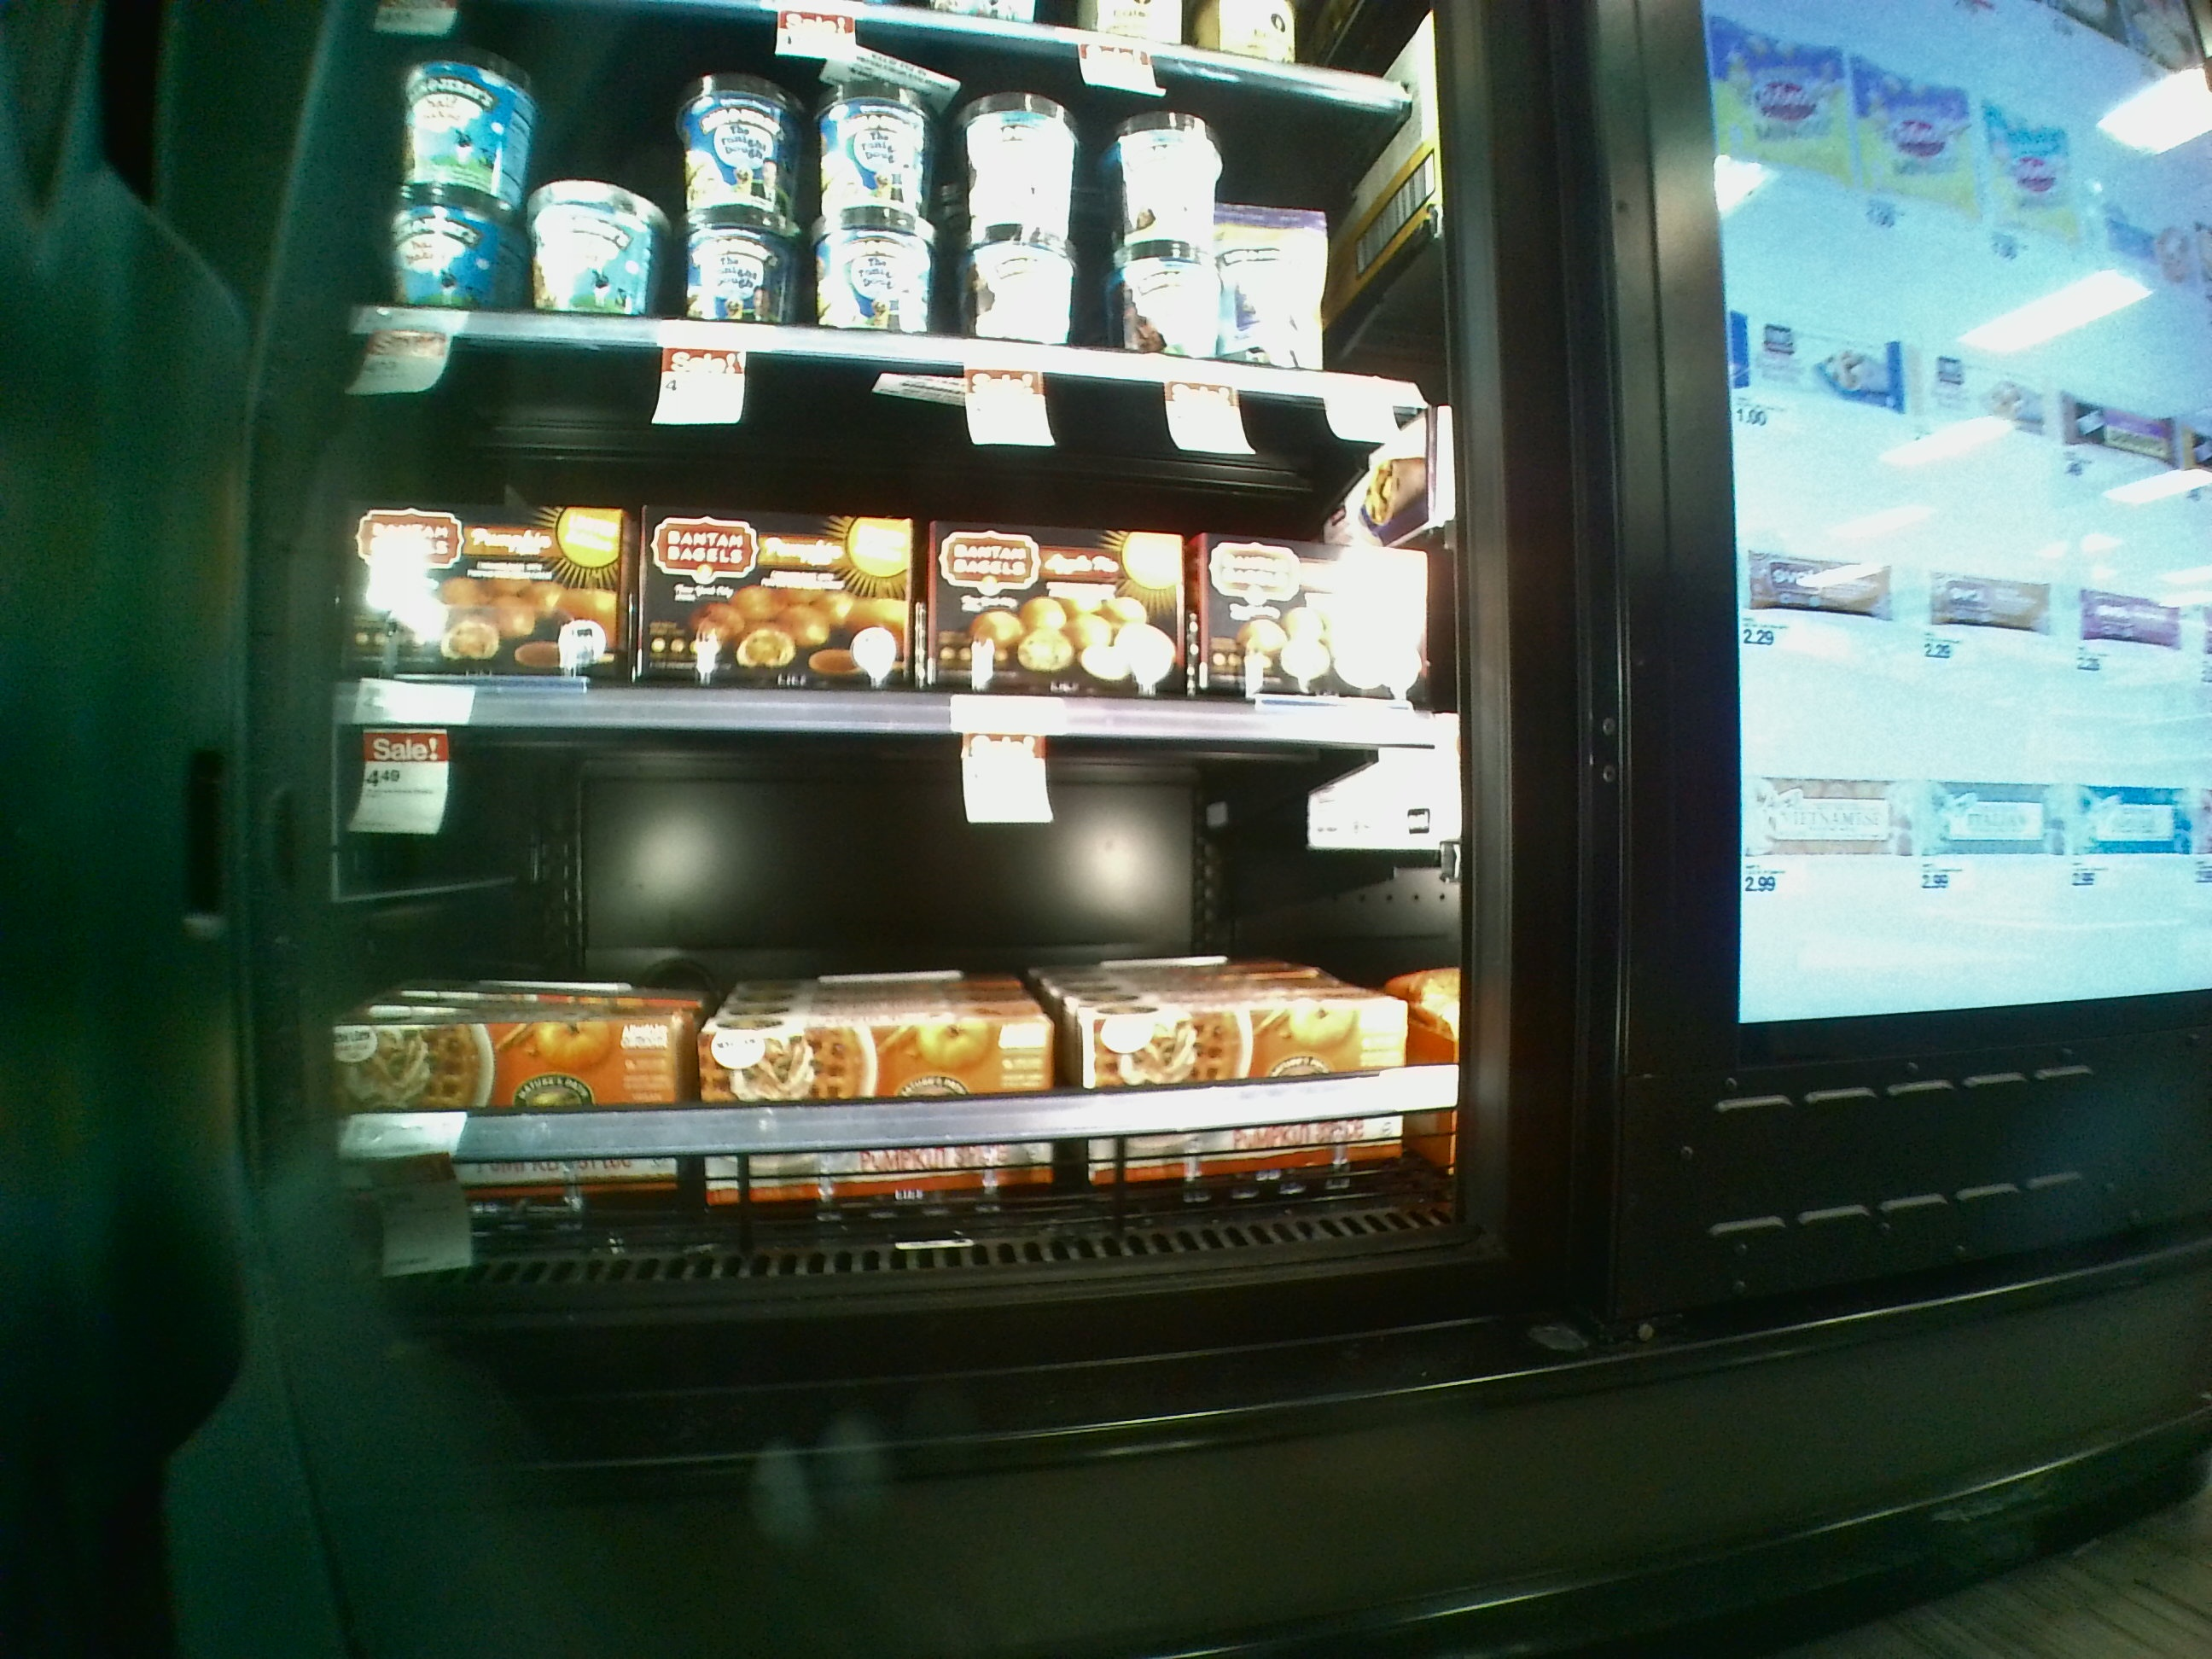shelf: (301, 704, 1508, 1290), (291, 326, 1456, 769)
